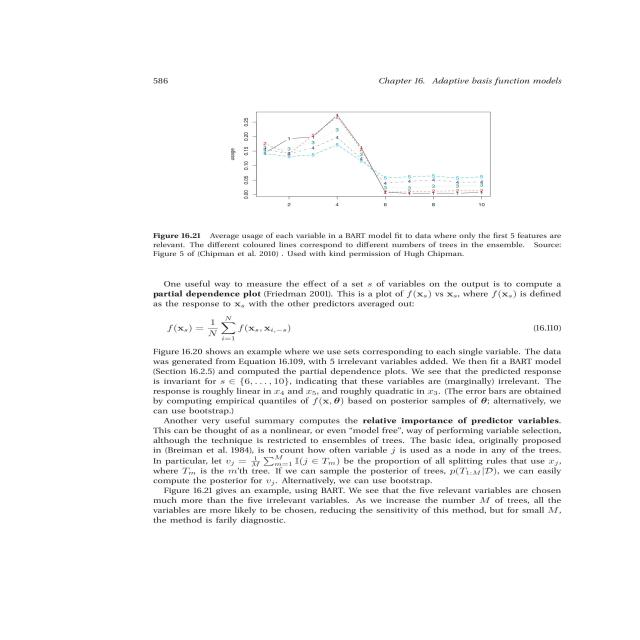diagram: (147, 101, 603, 270)
